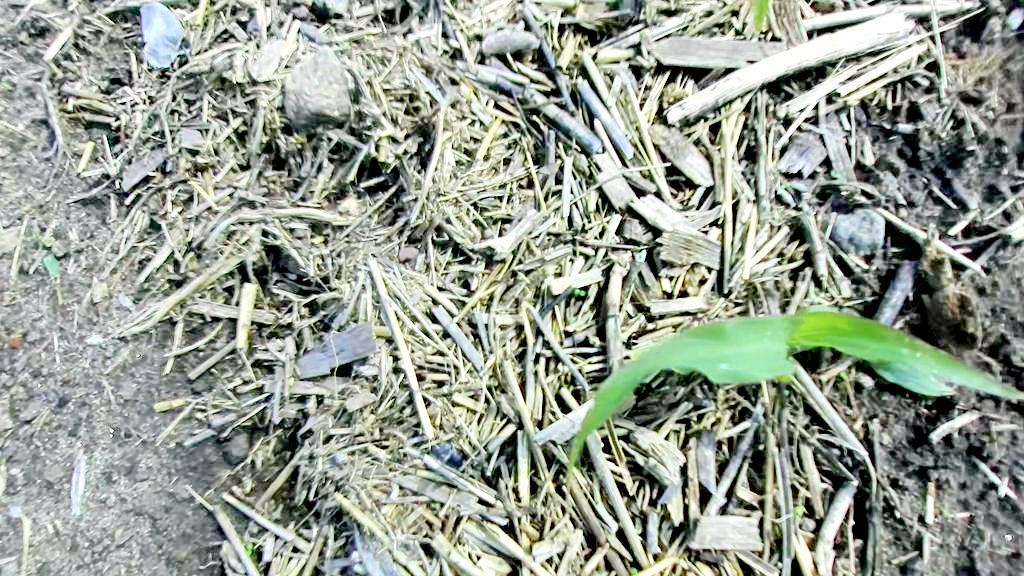BroWeed: (17, 218, 57, 258), (774, 234, 812, 268), (378, 140, 404, 176), (772, 180, 799, 210), (41, 252, 63, 279), (879, 120, 916, 136), (114, 290, 137, 313), (283, 127, 306, 148), (778, 179, 812, 193), (791, 497, 808, 519), (772, 102, 789, 120), (84, 334, 108, 345), (828, 169, 844, 181), (409, 217, 424, 228), (838, 370, 849, 382), (19, 206, 33, 215), (556, 474, 567, 485), (245, 542, 254, 555), (574, 288, 586, 297), (334, 548, 344, 558), (629, 565, 638, 576)
